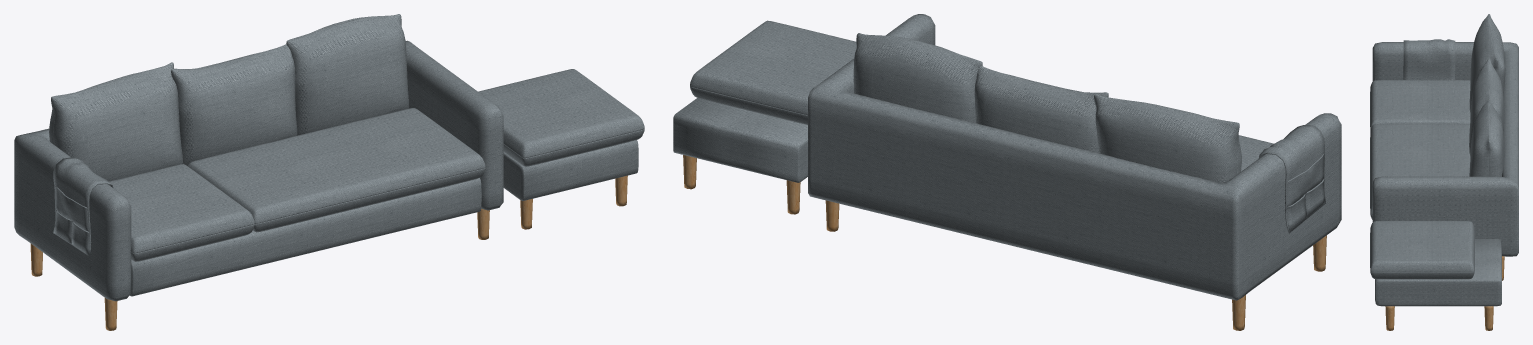
File: design14.obj
3 views of the same model, side by side, from view 1: azimuth 30°, elevation 25°; view 2: azimuth 150°, elevation 25°; view 3: azimuth 270°, elevation 25° (orthographic). The views are drawn at different scales.
Parts seen in each view (by area): view 1: Box073, Box069, Box071, Plane031, Plane033, Plane032, Box074, Box072, Box075, Plane034, Box070, Box076; view 2: Box069, Box074, Plane031, Plane033, Box075, Plane032, Plane034, Box070, Box076, Box072; view 3: Box069, Box074, Box073, Box075, Box072, Plane033, Plane034, Plane031, Plane032, Box076.
Boxes of the visible parts, x1=… form: Box073: x1=187, y1=108, x2=485, y2=232; Box069: x1=14, y1=40, x2=503, y2=301; Box071: x1=129, y1=178, x2=481, y2=296; Plane031: x1=49, y1=62, x2=183, y2=181; Plane033: x1=286, y1=14, x2=408, y2=135; Plane032: x1=171, y1=44, x2=297, y2=165; Box074: x1=478, y1=69, x2=644, y2=166; Box072: x1=109, y1=164, x2=254, y2=261; Box075: x1=503, y1=140, x2=638, y2=200; Plane034: x1=53, y1=157, x2=113, y2=256; Box070: x1=30, y1=209, x2=489, y2=330; Box076: x1=520, y1=175, x2=627, y2=229; Box069: x1=808, y1=14, x2=1341, y2=300; Box074: x1=690, y1=20, x2=856, y2=124; Plane031: x1=1094, y1=94, x2=1241, y2=182; Plane033: x1=853, y1=33, x2=982, y2=123; Box075: x1=673, y1=98, x2=807, y2=182; Plane032: x1=974, y1=66, x2=1108, y2=153; Plane034: x1=1258, y1=125, x2=1325, y2=233; Box070: x1=825, y1=200, x2=1326, y2=330; Box076: x1=683, y1=155, x2=800, y2=214; Box072: x1=1238, y1=135, x2=1273, y2=171; Box069: x1=1372, y1=42, x2=1518, y2=256; Box074: x1=1370, y1=221, x2=1474, y2=279; Box073: x1=1370, y1=123, x2=1470, y2=219; Box075: x1=1375, y1=239, x2=1501, y2=306; Box072: x1=1370, y1=80, x2=1470, y2=130; Plane033: x1=1469, y1=100, x2=1504, y2=176; Plane034: x1=1403, y1=39, x2=1455, y2=79; Plane031: x1=1469, y1=14, x2=1505, y2=113; Plane032: x1=1469, y1=58, x2=1504, y2=155; Box076: x1=1385, y1=306, x2=1493, y2=330.
Bounding box in the file's own units: 2398 × 783 × 774.
2 materials, 2 textured.
